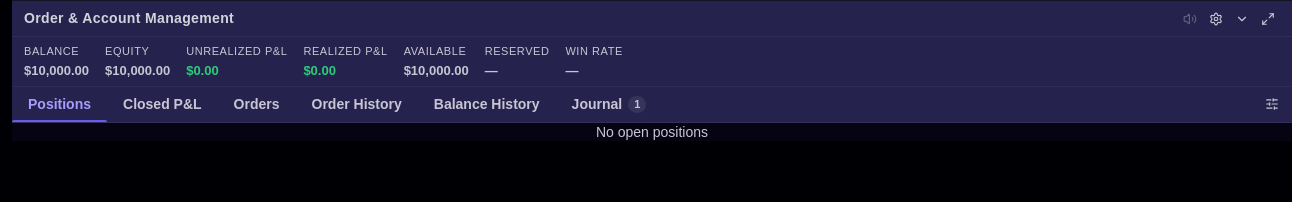
it: Section 4.8–4.11 — Journal tab › 4.10: losing close entry shows a "-$X.XX" PnL badge
Click the button "journal 1" at (609, 104), box x1=556 y1=87 x2=662 y2=122
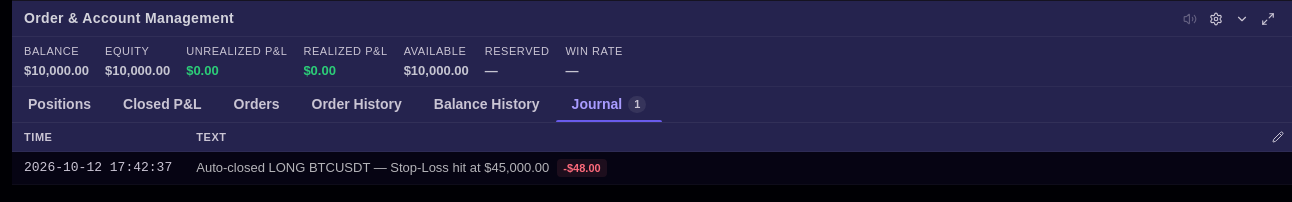
Result: the text "-$48.00" is shown at x1=557 y1=159 x2=607 y2=177
